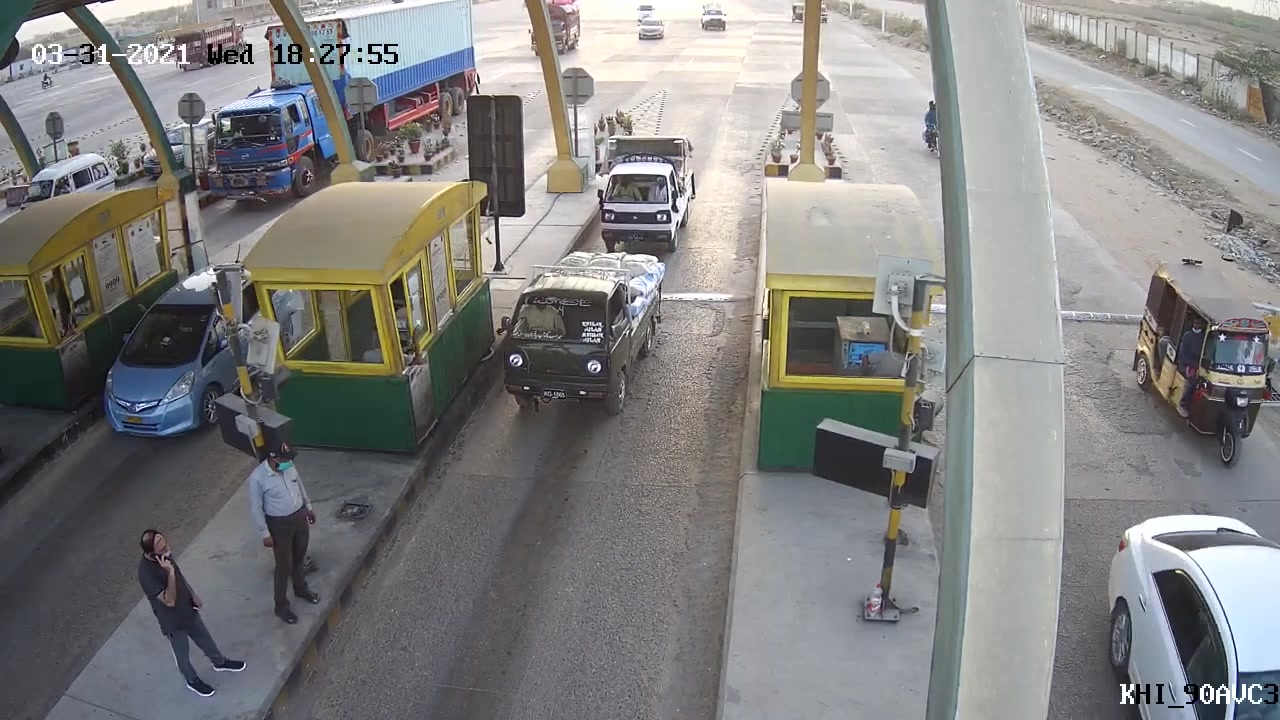F1: (493, 245, 671, 421), (586, 127, 702, 247)
